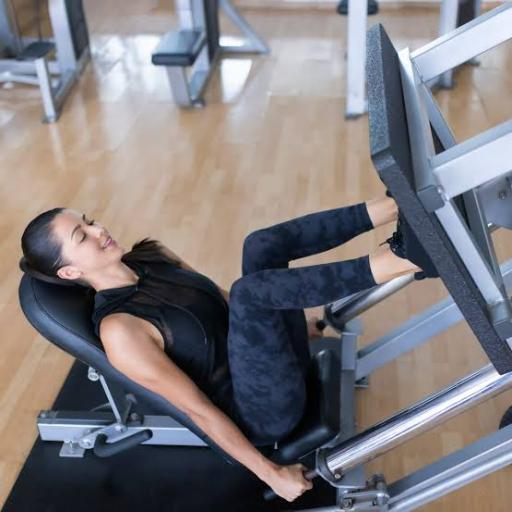Leg Press: (2, 61, 512, 452)
